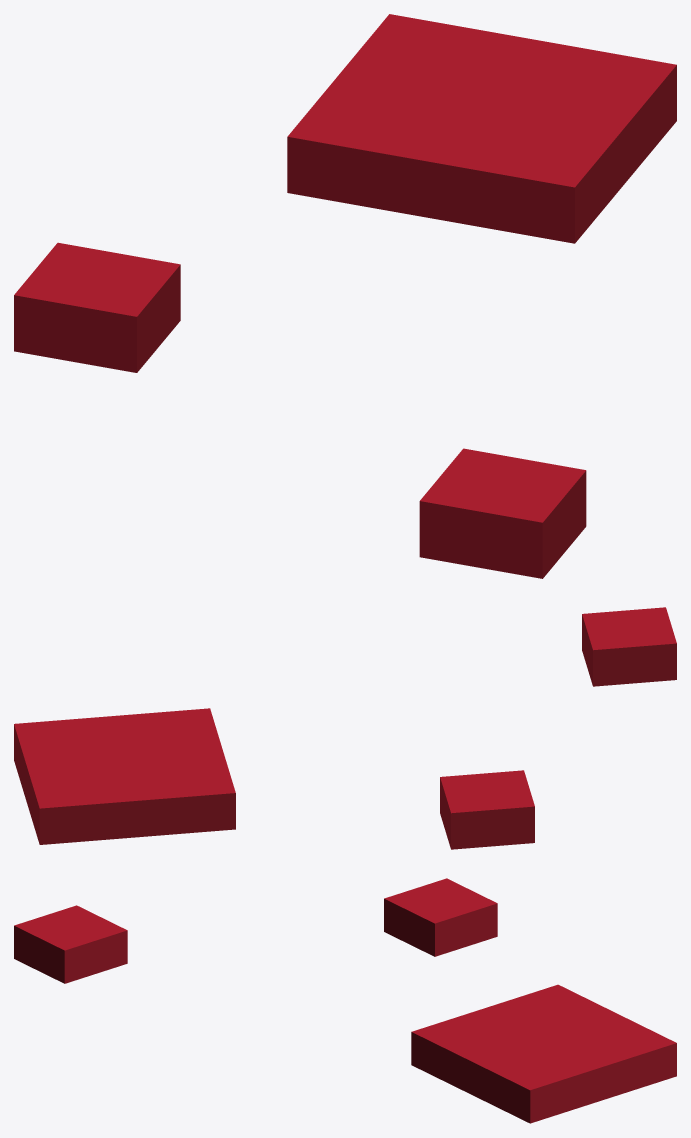
File: rubble_07.fbx
3 views of the same model, one above another, from view 1: azimuth 30°, elevation 25°; view 2: azimuth 150°, elevation 25°; view 3: azimuth 270°, elevation 25° (orthographic). The views are drawn at different scales.
Visible parts, largest first — view 1: rubble_07; view 2: rubble_07; view 3: rubble_07.
Boxes of the visible parts, left/top/right/bottom form: rubble_07: left=14, top=14, right=676, bottom=578; rubble_07: left=14, top=607, right=676, bottom=849; rubble_07: left=14, top=878, right=676, bottom=1123.
Bounding box in the file's own units: 140 × 10.27 × 185.
